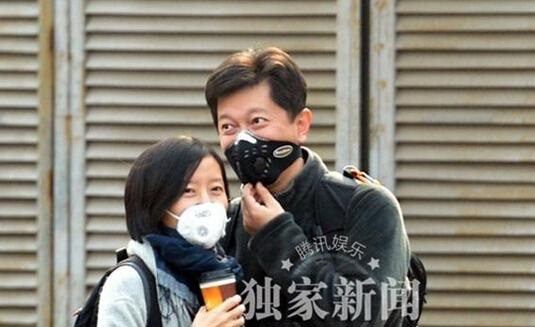face_mask: (221, 88, 297, 185), (169, 156, 230, 245)
